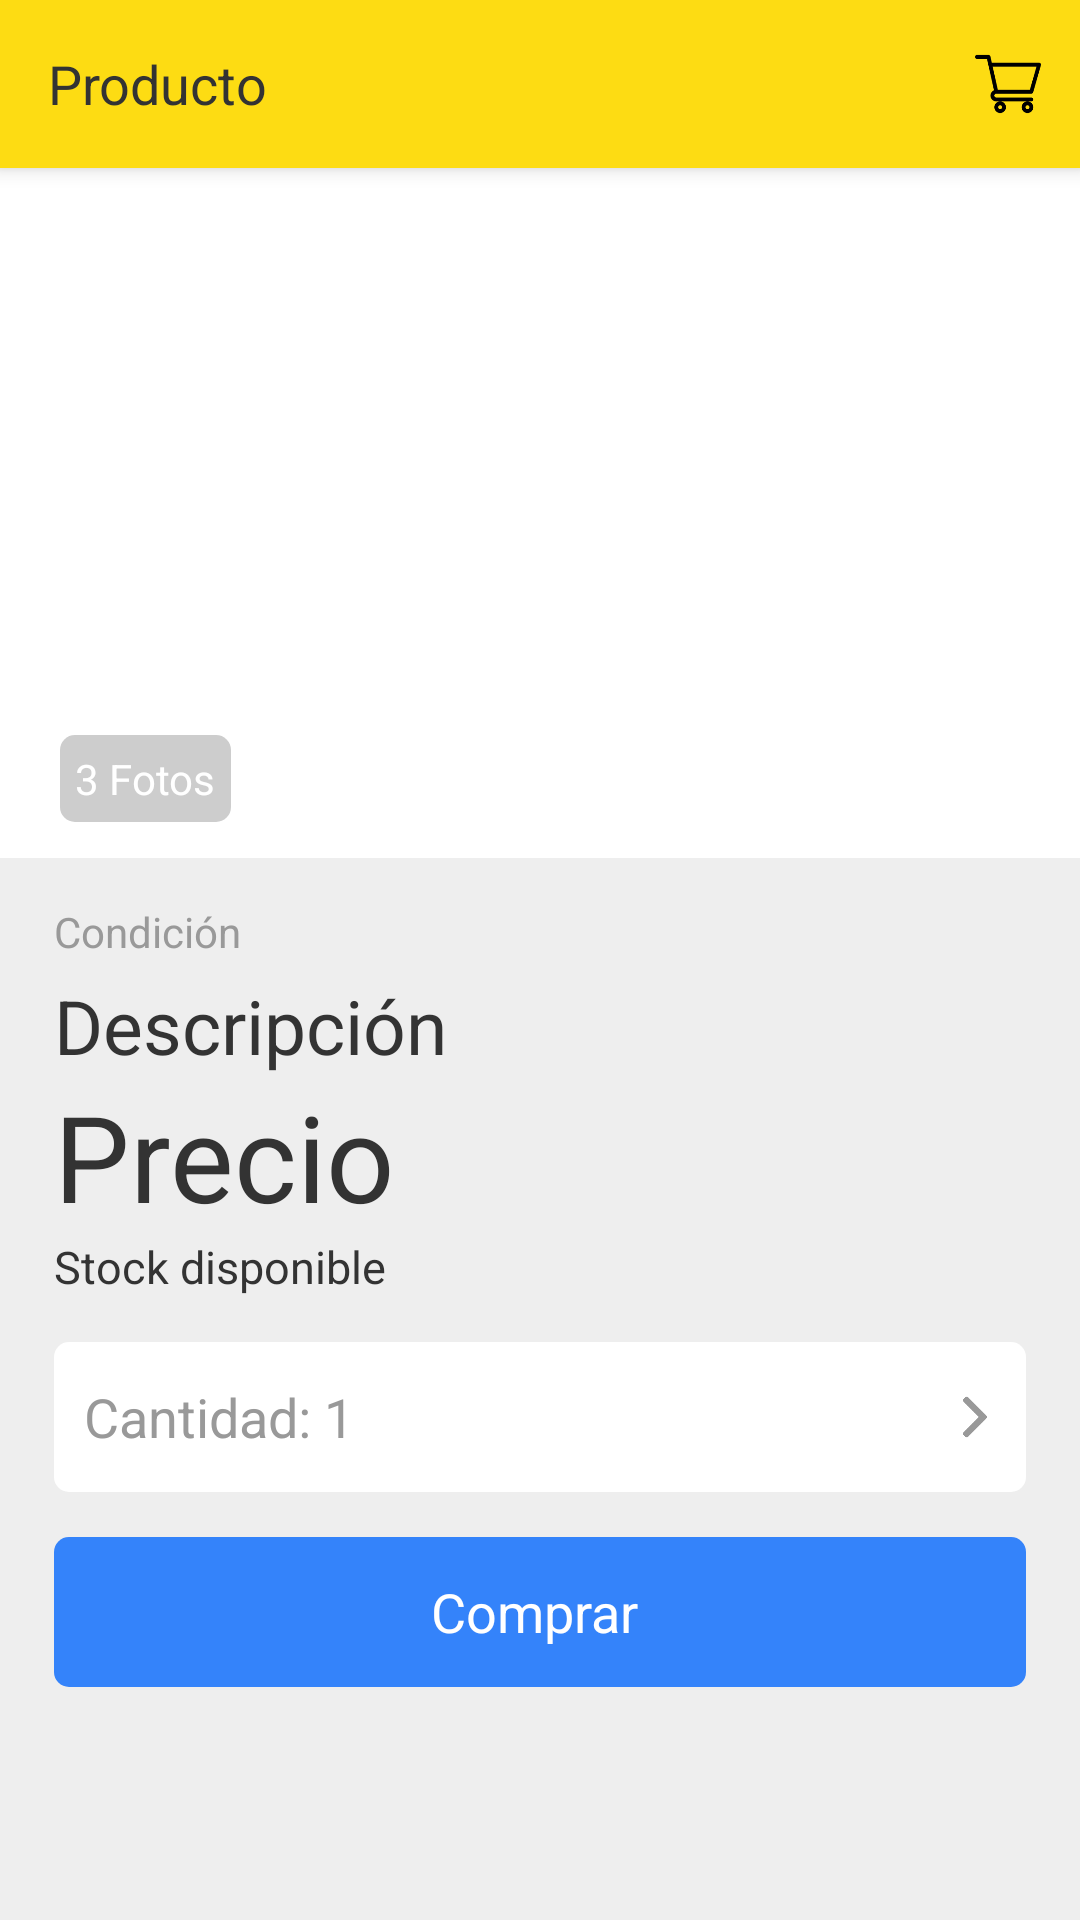

Icons on this 1080w x 1920h Android screen, each with its box as {"x1": x1, "y1": y1, "x2": x2, "y2": y2}:
arrow: {"x1": 963, "y1": 1397, "x2": 987, "y2": 1437}
cart: {"x1": 975, "y1": 55, "x2": 1041, "y2": 113}
